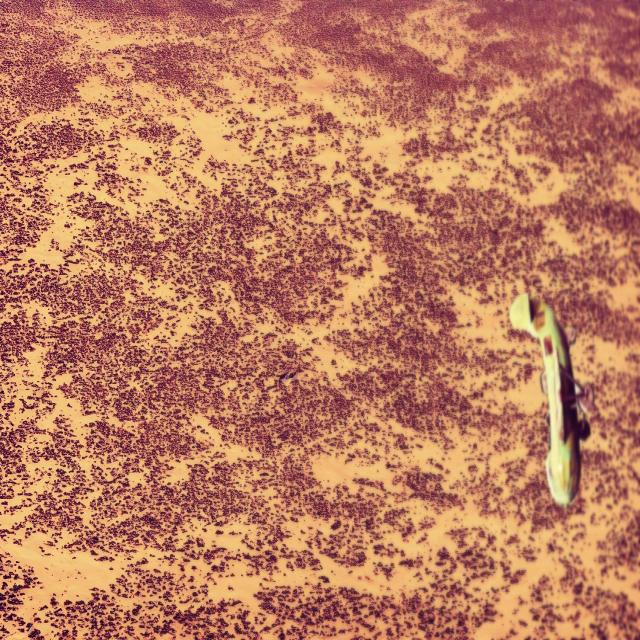airplane: (509, 291, 594, 508)
